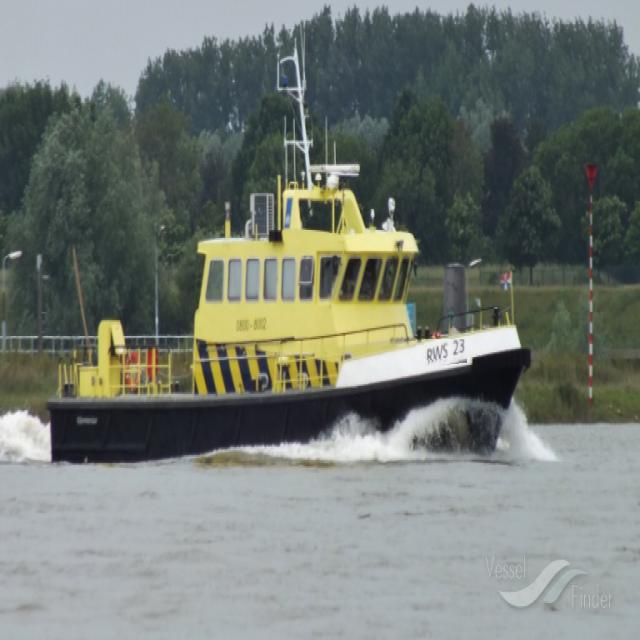OCR: (411, 339, 467, 369)
